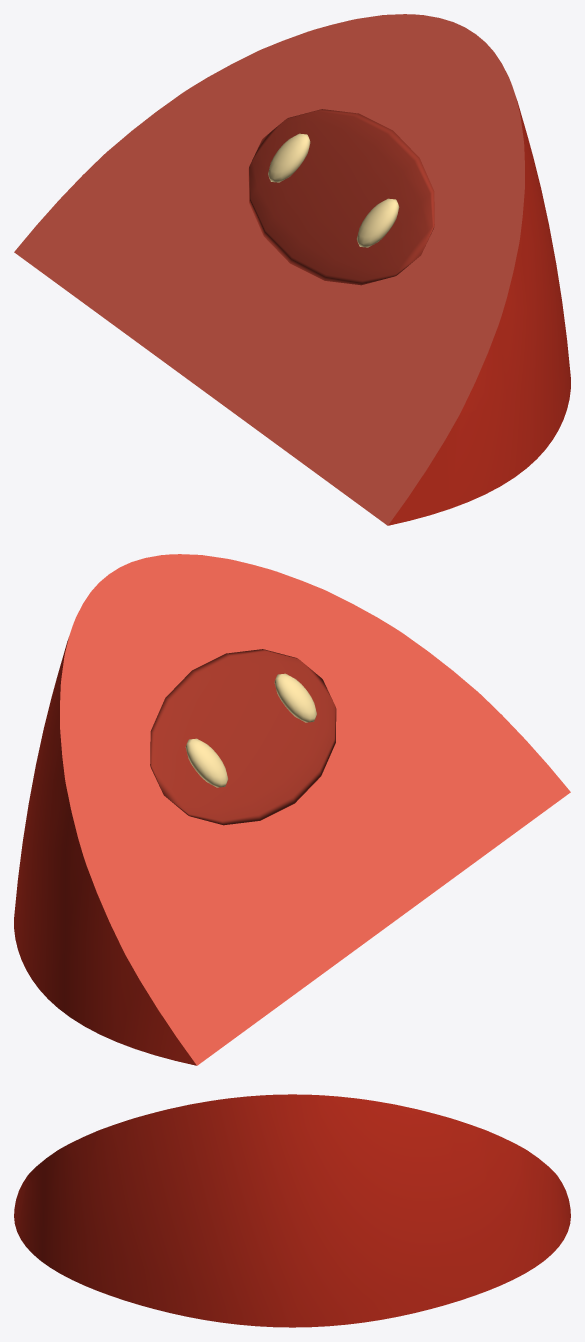
File: roma_chunk.glb
3 renders of one model, top to bottom at view 1: azimuth 30°, elevation 25°; view 2: azimuth 150°, elevation 25°; view 3: azimuth 270°, elevation 25°, orthographic. The views are drawn at different scales.
Visible parts, largest first — view 1: Prepared right half, Eighth seed chamber, Eighth seed, Eighth seed.001; view 2: Prepared right half, Eighth seed chamber, Eighth seed.001, Eighth seed; view 3: Prepared right half.
Boxes of the visible parts, bbox=[...] form: Prepared right half: bbox=[14, 14, 570, 525]; Eighth seed chamber: bbox=[248, 109, 434, 285]; Eighth seed: bbox=[268, 133, 310, 182]; Eighth seed.001: bbox=[357, 198, 399, 247]; Prepared right half: bbox=[14, 554, 570, 1065]; Eighth seed chamber: bbox=[150, 649, 336, 825]; Eighth seed.001: bbox=[274, 673, 316, 722]; Eighth seed: bbox=[185, 738, 227, 787]; Prepared right half: bbox=[14, 1094, 570, 1327].
Size of the model in its own units: 0.4048 by 0.3397 by 0.8014.
